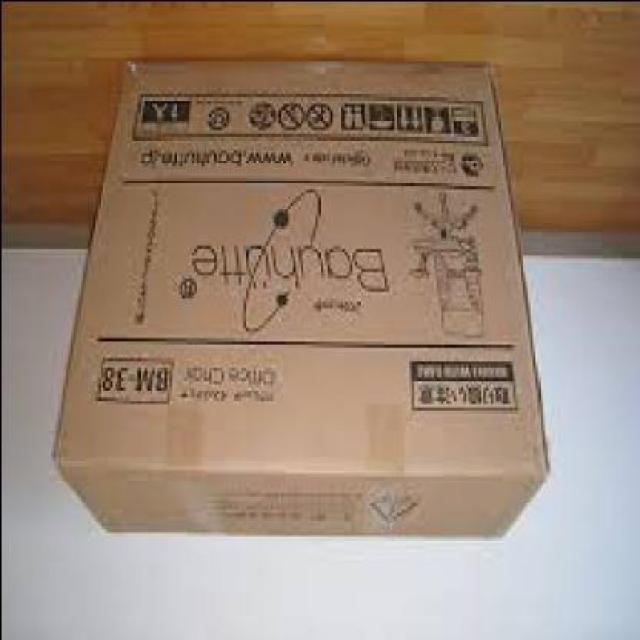CARDBOARD: (54, 59, 548, 541)
